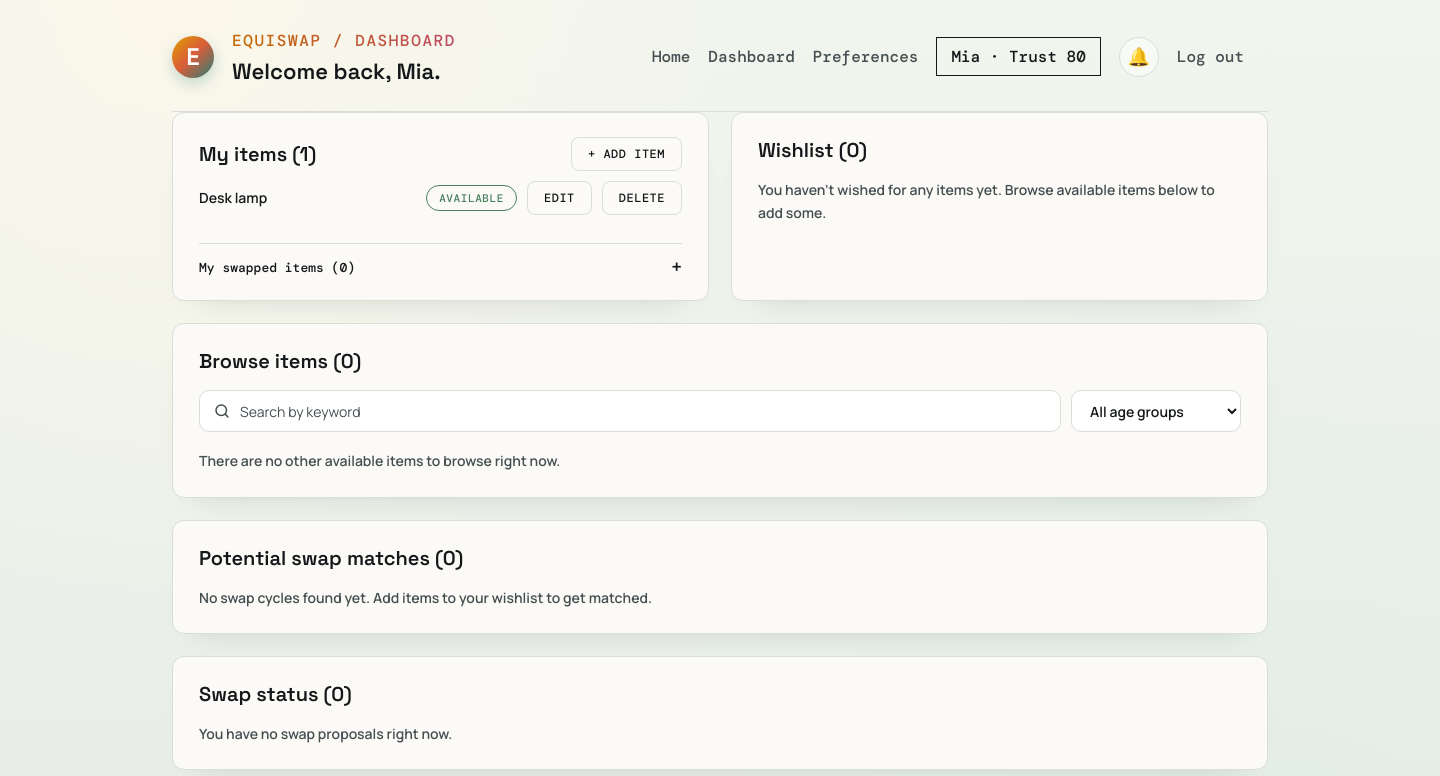
Test case: DashboardPage › edits an existing item through the inline edit form
Expected: the text "Desk lamp" is shown, [199,187,267,209]
Step 1. Click the button "Edit" → (559, 198), box [527,181,592,215]
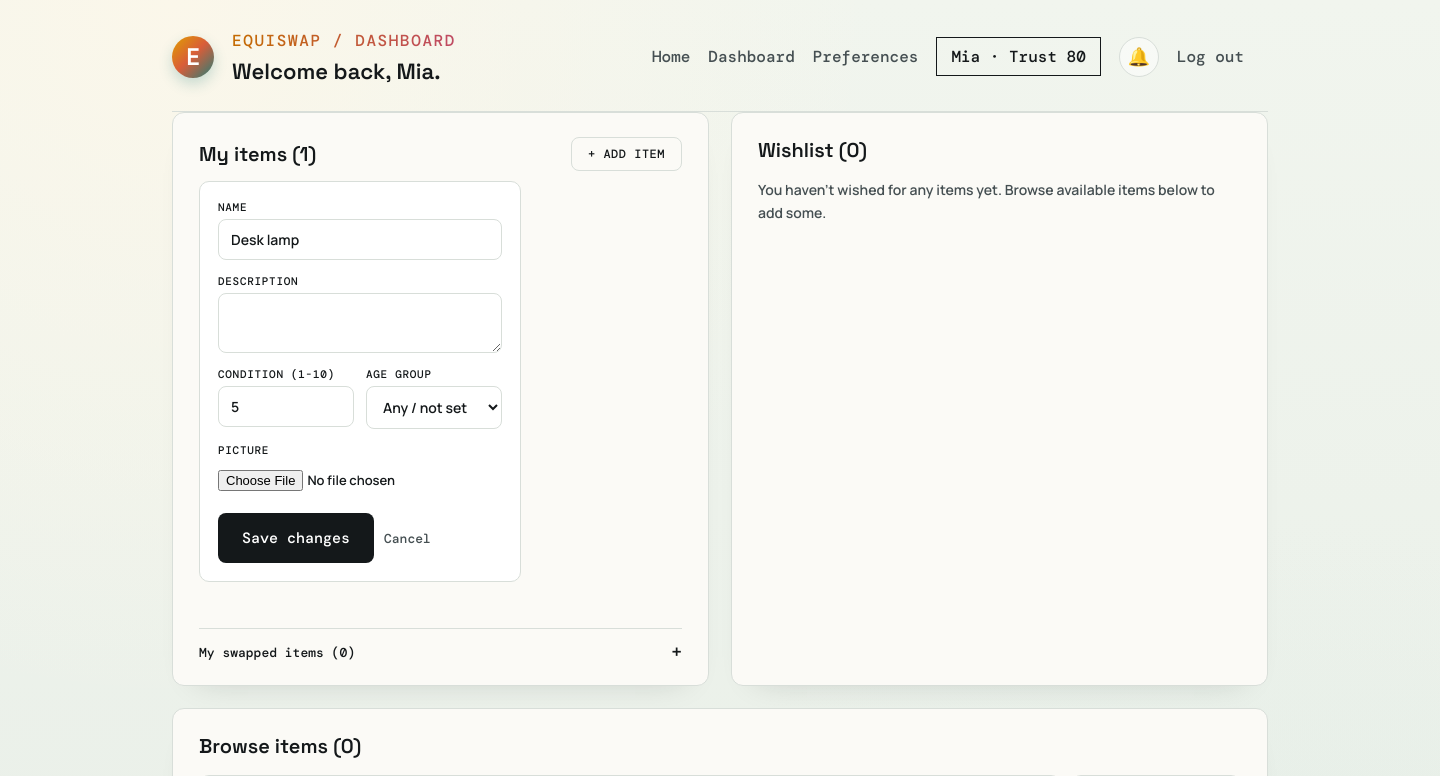
Step 2. Replace the text in the field labelled "Name" with "Brass lamp" → (360, 240), box [218,219,502,260]
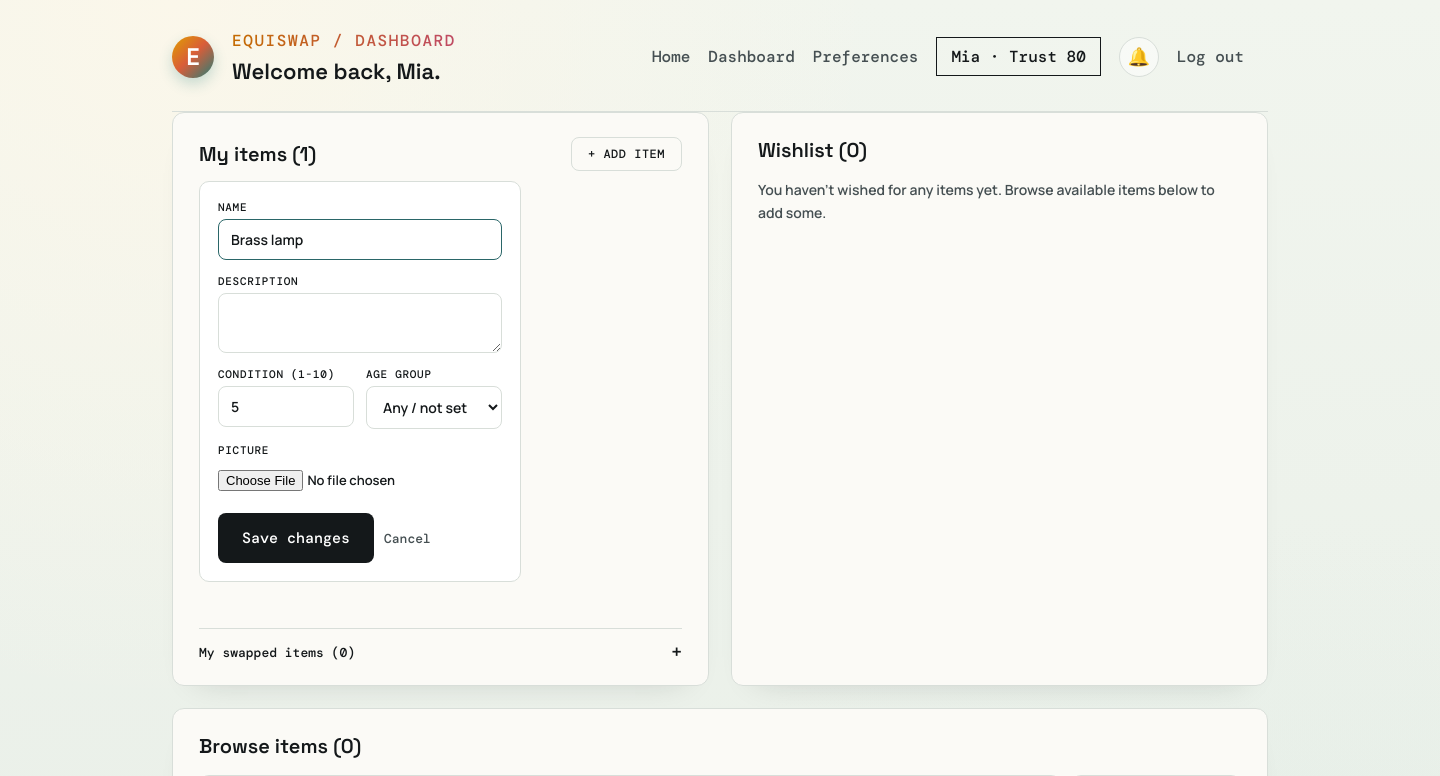
Step 3. Click the button "Save changes" → (296, 538), box [218,513,374,563]
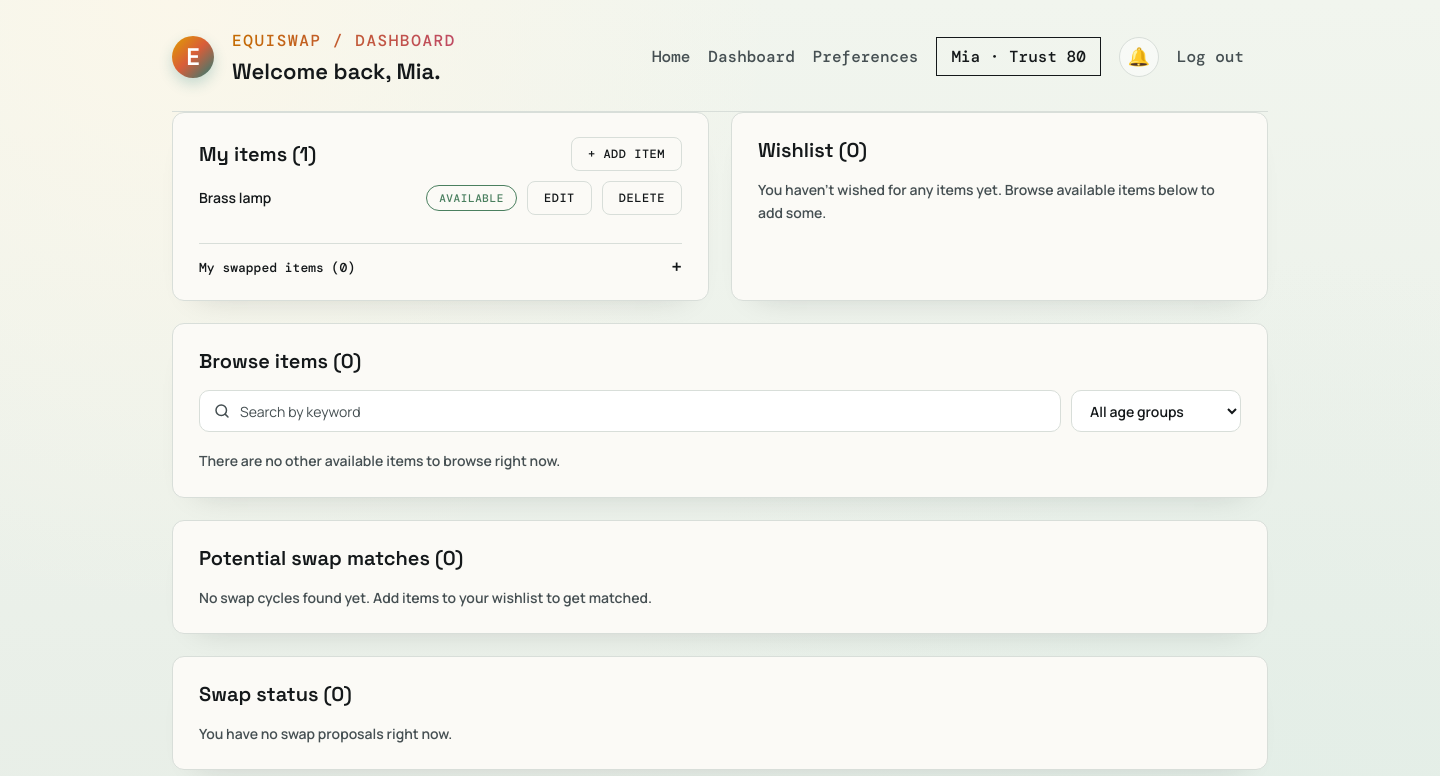
Result: the text "Brass lamp" is shown at [199,187,271,209]
